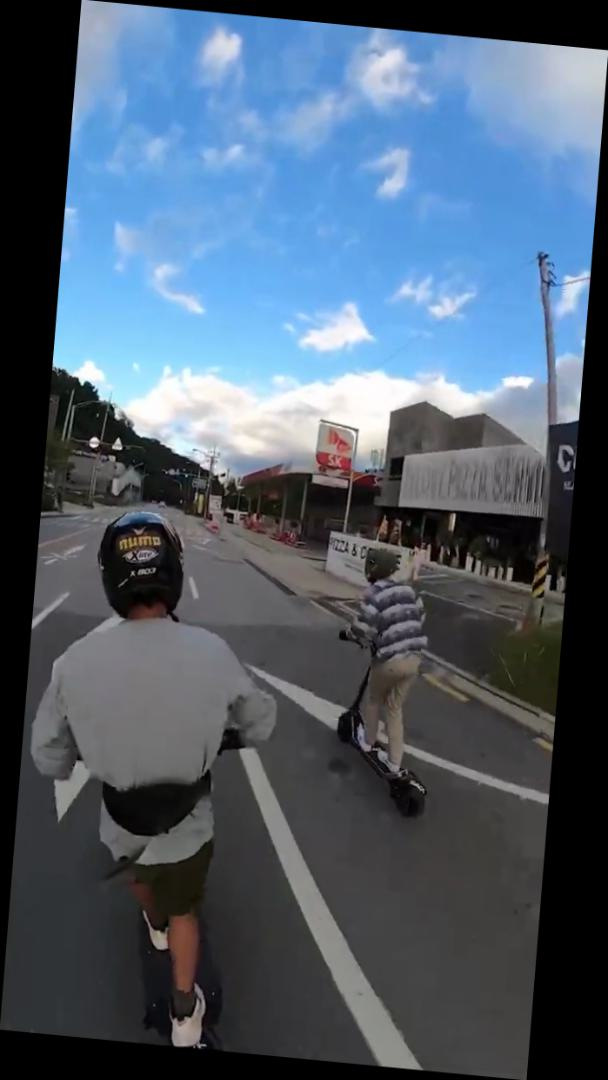helmet: (6, 501, 296, 1054), (325, 542, 449, 824)
